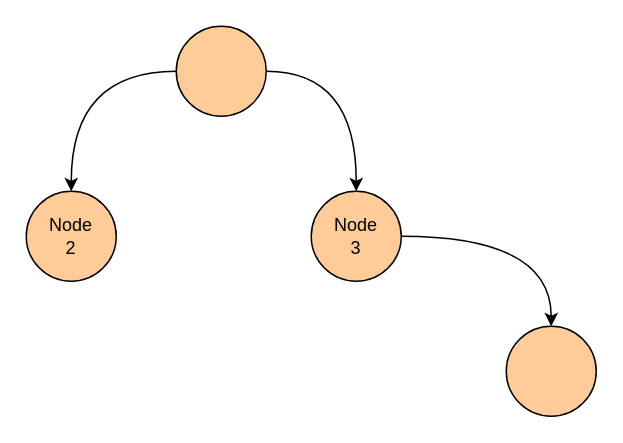
Some shapes in this 623 by 443 pixel diagram are drawn without their labels. The box of each missing label's shape, as (x1, y1, x2, y2) in pixels:
Node 1: (175, 25, 266, 116)
Node 4: (505, 325, 596, 416)
